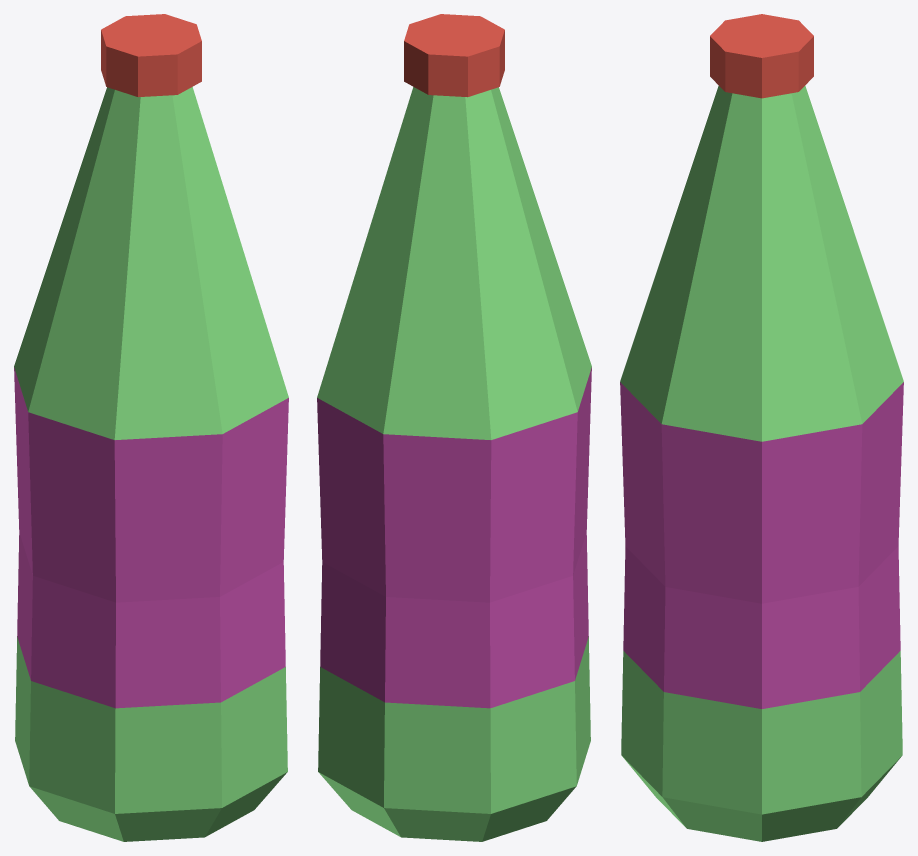
Rendered from prop_bottle1_mesh_01_v1.glb.
3 views of the same model, side by side, from view 1: azimuth 30°, elevation 25°; view 2: azimuth 150°, elevation 25°; view 3: azimuth 270°, elevation 25° (orthographic).
Parts seen in each view (by area): view 1: Flask; view 2: Flask; view 3: Flask.
Boxes of the visible parts, x1,y1,x2,y2 form: Flask: [14, 14, 288, 841]; Flask: [317, 14, 591, 841]; Flask: [620, 14, 903, 841].
Size of the model in its own units: 0.7302 by 2.16 by 0.7302.
